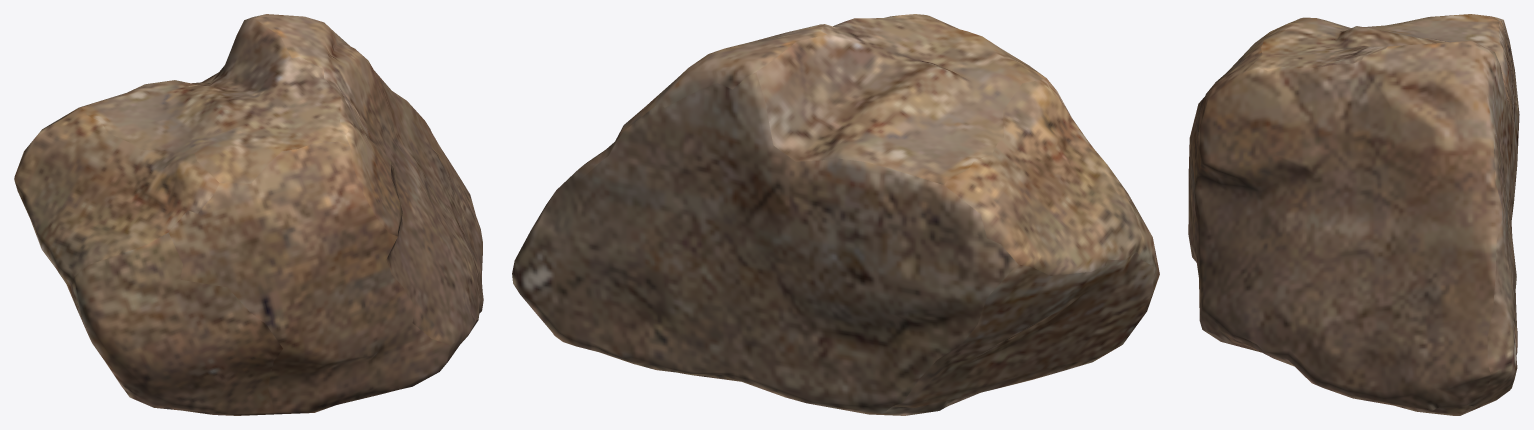
Rendered from SM_For_Sca_Rock_Set_01_D.gltf.
3 views of the same model, side by side, from view 1: azimuth 30°, elevation 25°; view 2: azimuth 150°, elevation 25°; view 3: azimuth 270°, elevation 25° (orthographic). The views are drawn at different scales.
Visible parts, largest first — view 1: SM_For_Sca_Rock_Set_01_D; view 2: SM_For_Sca_Rock_Set_01_D; view 3: SM_For_Sca_Rock_Set_01_D.
Boxes of the visible parts, left/top/right/bottom form: SM_For_Sca_Rock_Set_01_D: left=14, top=14, right=483, bottom=415; SM_For_Sca_Rock_Set_01_D: left=512, top=14, right=1159, bottom=415; SM_For_Sca_Rock_Set_01_D: left=1188, top=14, right=1519, bottom=415.
Size of the model in its own units: 0.1203 by 0.0707 by 0.0739.
1 material, 1 textured.
